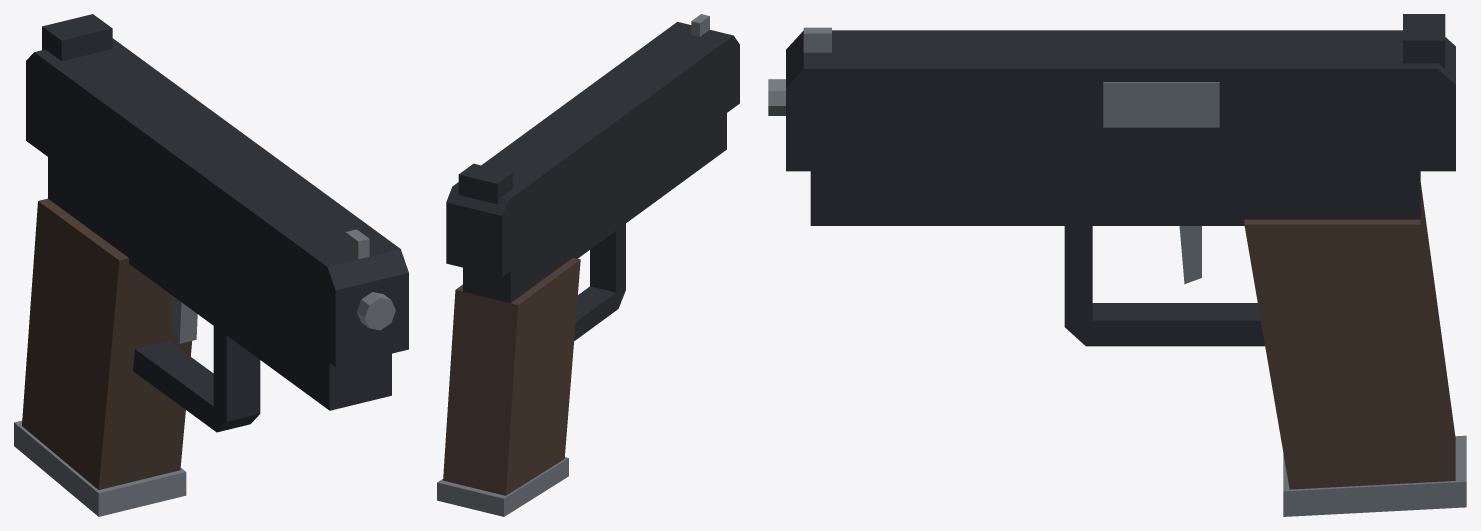
The model's file is pistol_guard.glb.
3 views of the same model, side by side, from view 1: azimuth 30°, elevation 25°; view 2: azimuth 150°, elevation 25°; view 3: azimuth 270°, elevation 25° (orthographic). The views are drawn at different scales.
Visible parts, largest first — view 1: pistol_guard_mesh; view 2: pistol_guard_mesh; view 3: pistol_guard_mesh.
Part boxes in pixels (x1,y1,x2,y2): pistol_guard_mesh: (14,14,408,516); pistol_guard_mesh: (437,14,739,516); pistol_guard_mesh: (768,14,1466,516).
Bounding box in the file's own units: 0.031 × 0.146 × 0.198.
Materials: 1 (1 with a texture image).
